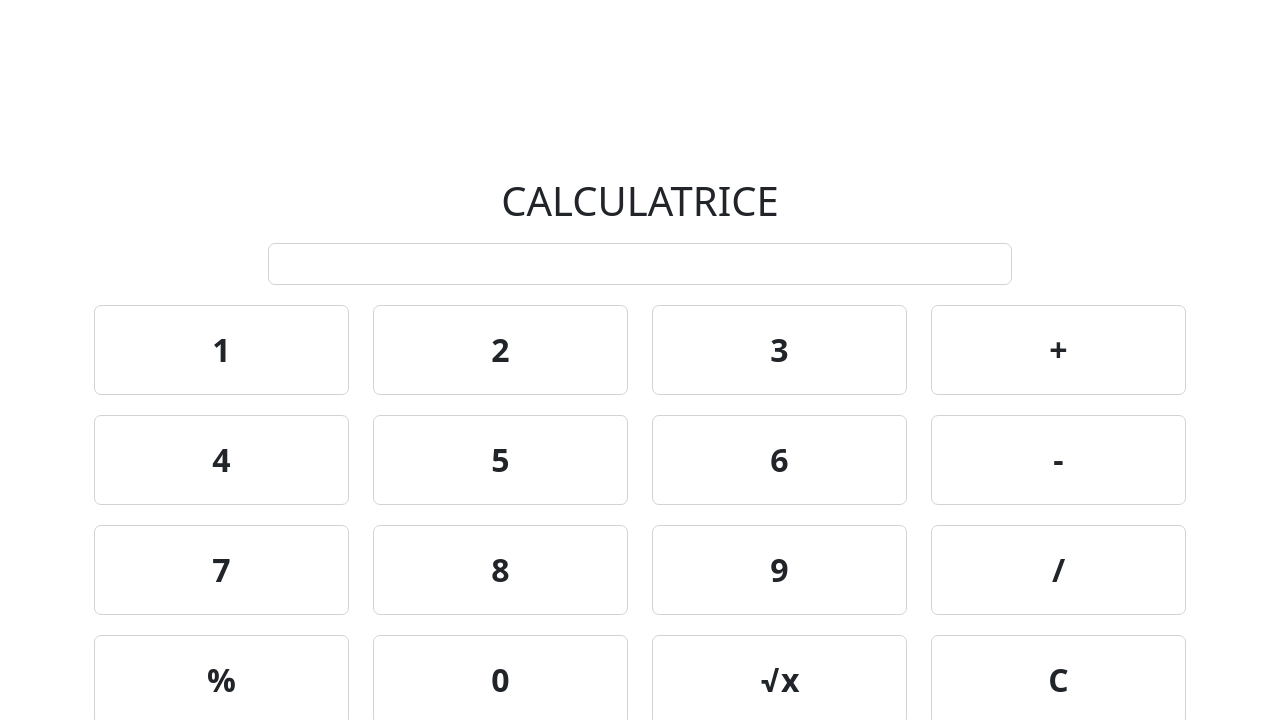
Test: Calculator › Test addition
Click the text "1" at [222, 350], box [94,305,349,395]
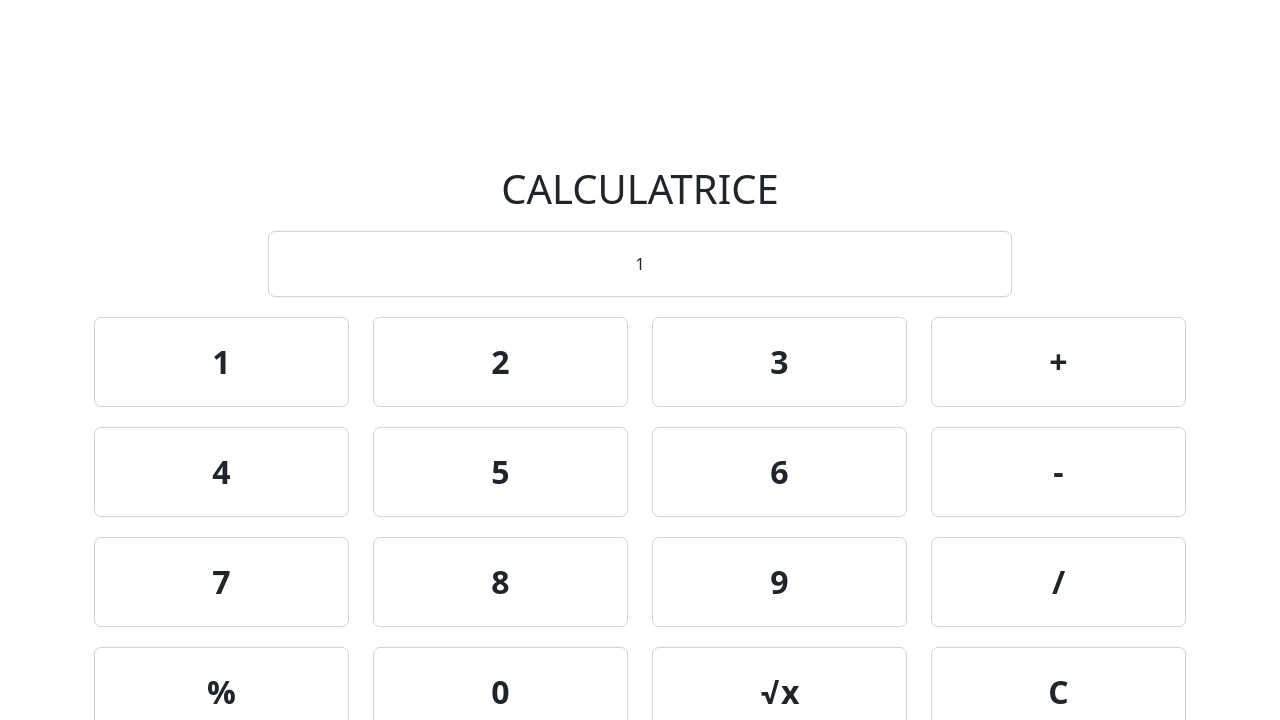
Click the text "+" at [1059, 362], box [931,317,1186,407]
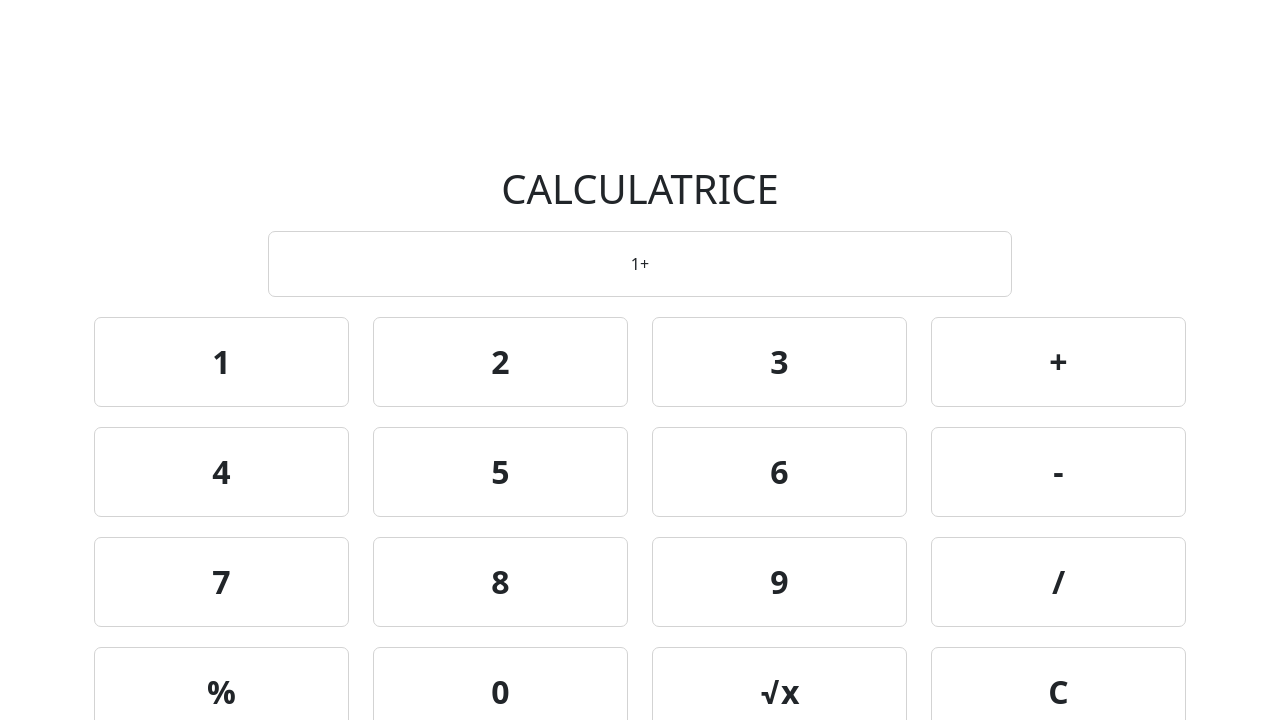
Click the text "2" at [501, 362], box [373,317,628,407]
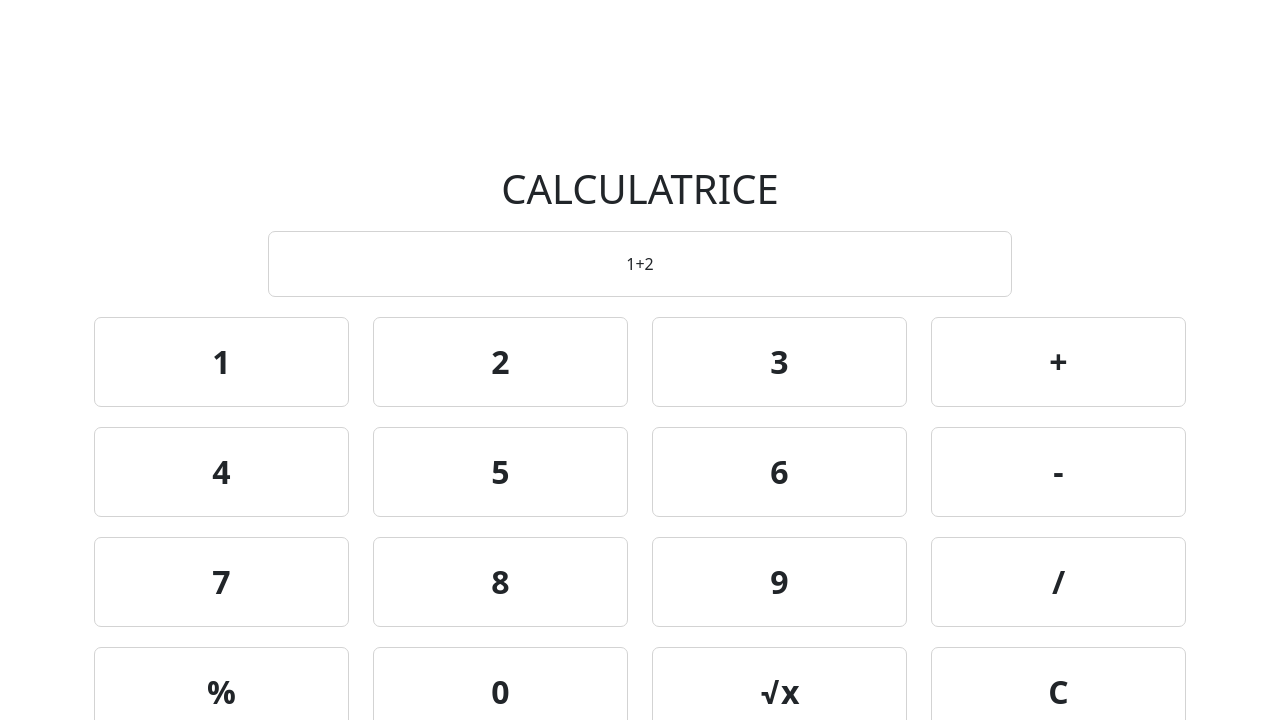
Scroll
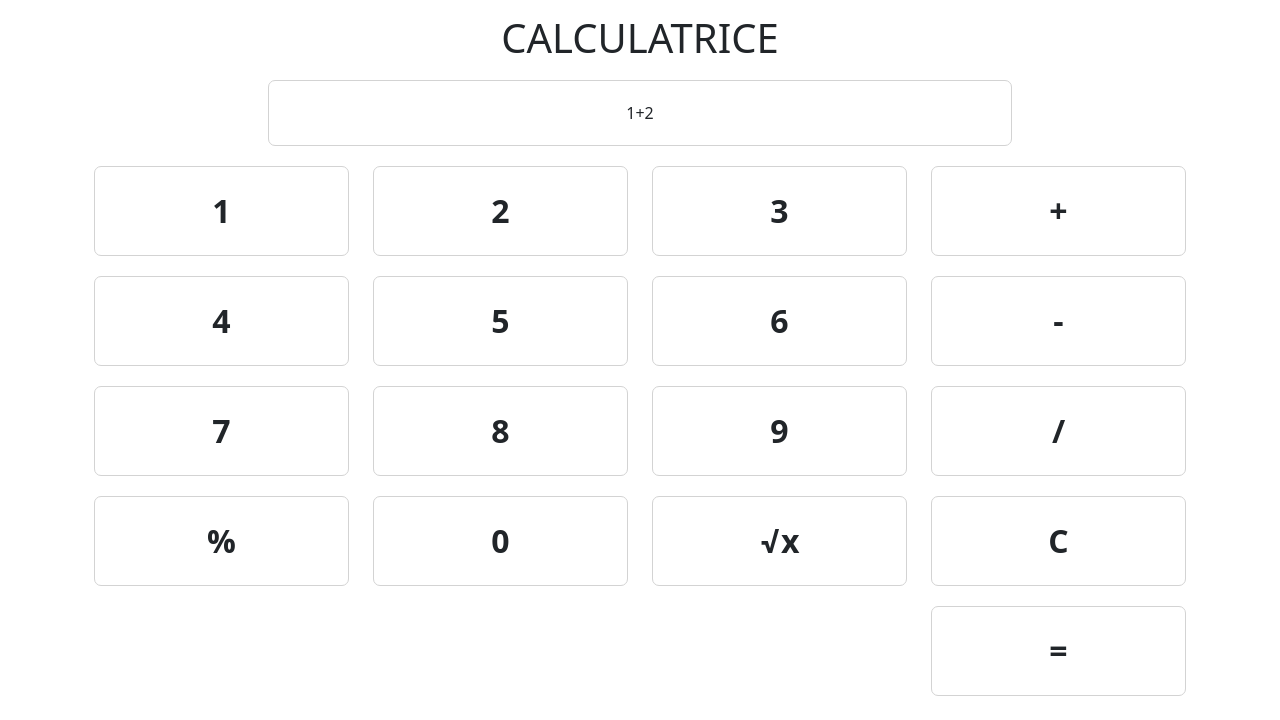
Click the text "=" at [1059, 651], box [931,606,1186,696]
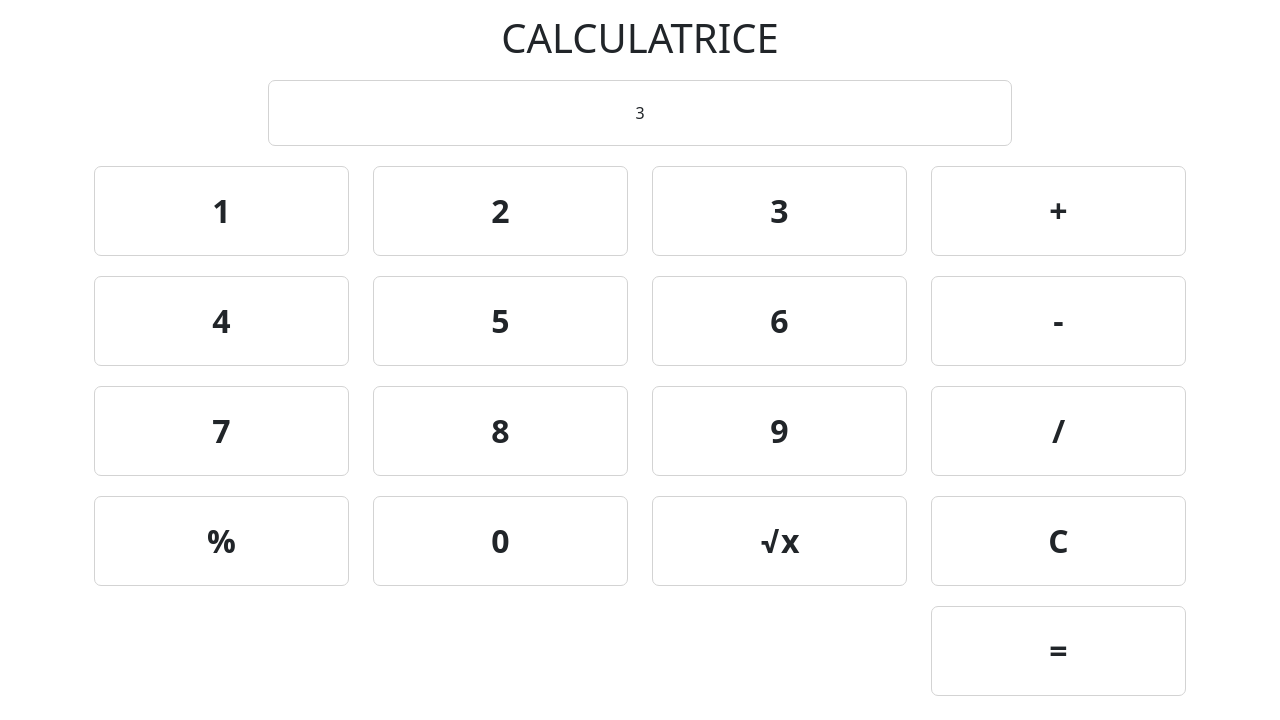
Check: the 1st text "3" is shown, box [268,80,1012,146]
